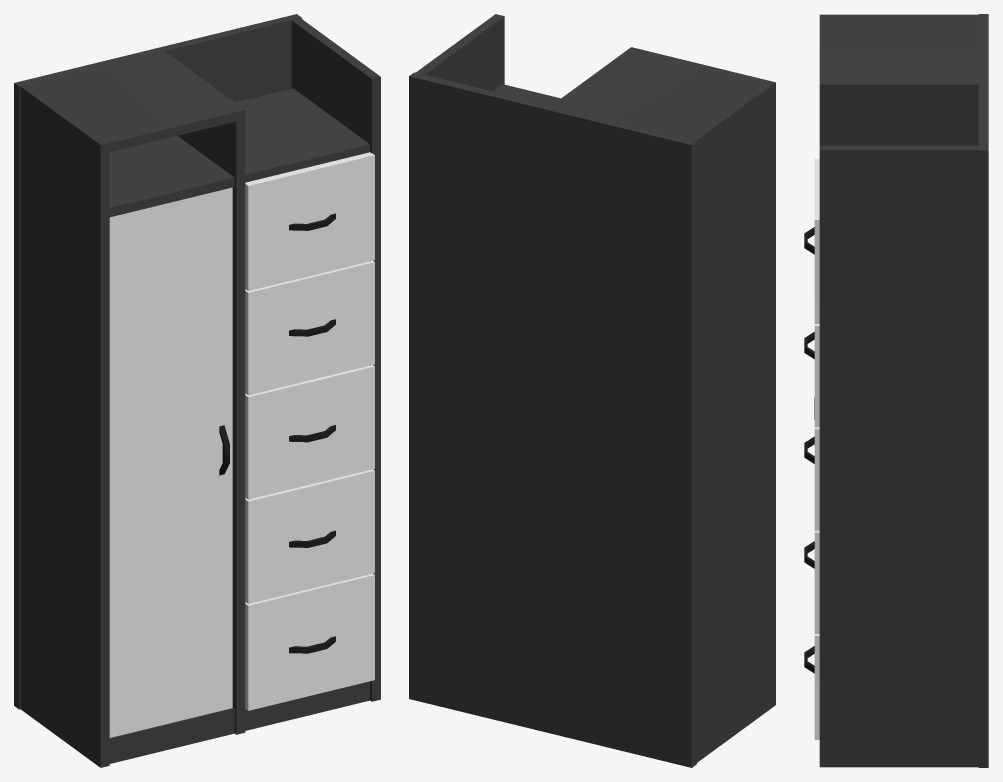
The model's file is closet_001.obj.
The picture shows the model from 3 angles, left to right: view 1: azimuth 30°, elevation 25°; view 2: azimuth 150°, elevation 25°; view 3: azimuth 270°, elevation 25°; orthographic projection.
Visible parts, largest first — view 1: closet_001; view 2: closet_001; view 3: closet_001.
Part boxes in pixels (bbox=[...]): closet_001: bbox=[14, 14, 380, 767]; closet_001: bbox=[409, 14, 775, 767]; closet_001: bbox=[804, 14, 988, 767].
Bounding box in the file's own units: 1.28 × 2.69 × 0.7289.
